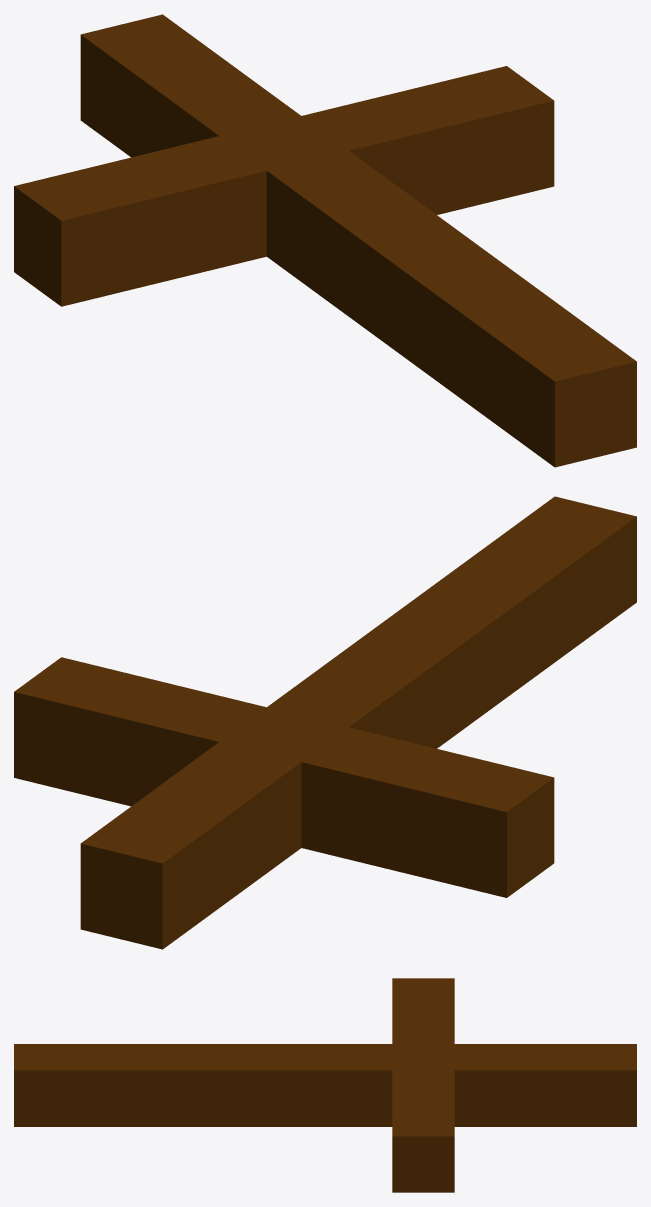
File: Petrus.fbx
3 views of the same model, one above another, from view 1: azimuth 30°, elevation 25°; view 2: azimuth 150°, elevation 25°; view 3: azimuth 270°, elevation 25° (orthographic). The views are drawn at different scales.
Parts seen in each view (by area): view 1: Petrus; view 2: Petrus; view 3: Petrus.
Boxes of the visible parts, <box> form: Petrus: <box>14,14,636,467</box>; Petrus: <box>14,496,636,949</box>; Petrus: <box>14,978,636,1192</box>.
Size of the model in its own units: 39508 by 6585 by 65846.
